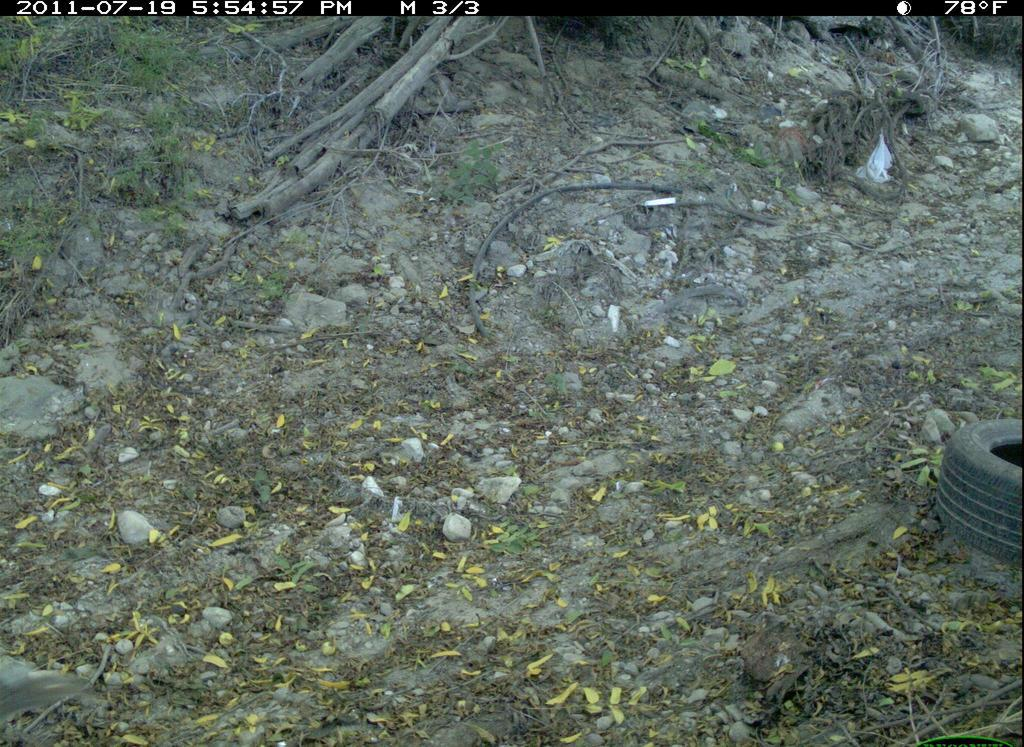rabbit: (2, 660, 105, 737)
